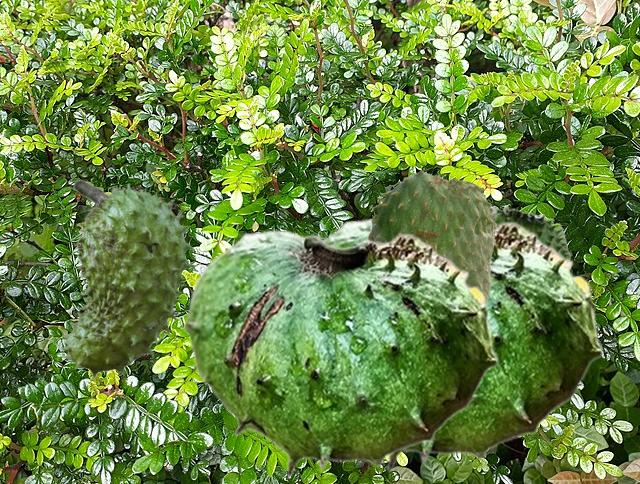guyabano: (182, 229, 498, 478), (324, 217, 603, 471), (60, 179, 198, 380), (367, 169, 498, 300), (491, 204, 570, 257)
